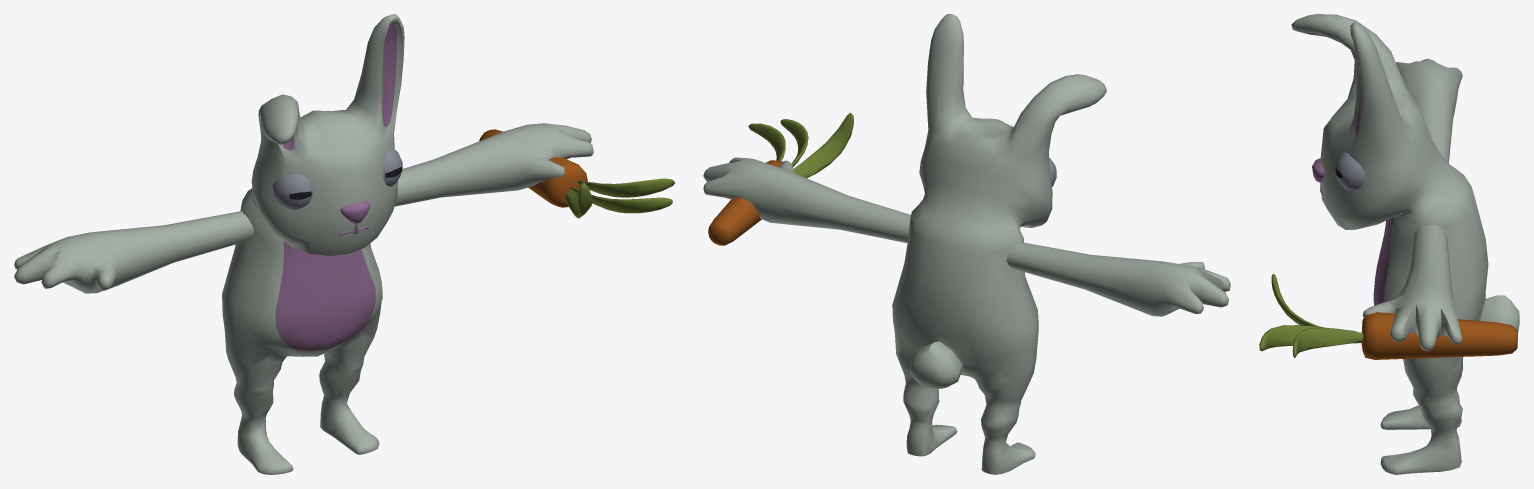
File: Pet_Bunny.fbx
The picture shows the model from 3 angles, left to right: view 1: azimuth 30°, elevation 25°; view 2: azimuth 150°, elevation 25°; view 3: azimuth 270°, elevation 25°; orthographic projection. The views are drawn at different scales.
Parts seen in each view (by area): view 1: Pet_Bunny; view 2: Pet_Bunny; view 3: Pet_Bunny.
Boxes of the visible parts, bbox=[...] form: Pet_Bunny: bbox=[14, 14, 674, 474]; Pet_Bunny: bbox=[703, 14, 1230, 474]; Pet_Bunny: bbox=[1259, 14, 1519, 474].
Size of the model in its own units: 2.68 by 1.93 by 1.01.
